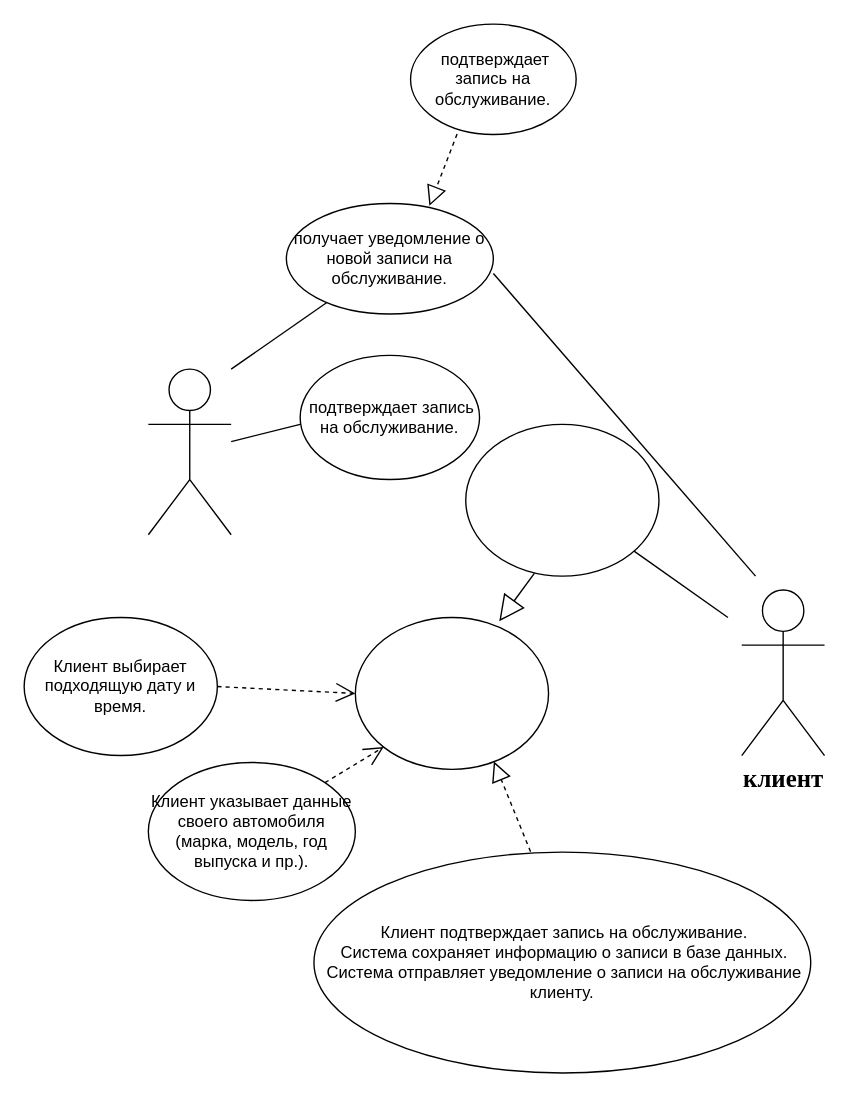
Some shapes in this 849 by 1097 pixel diagram are drawn without their labels. Each missing label, with the centre of its shape:
Администратор/сотрудник: point (189, 451)
Клиент выбирает функцию "Запись на обслуживание": point (451, 692)
Клиент открывает панель управления системой.: point (561, 499)
